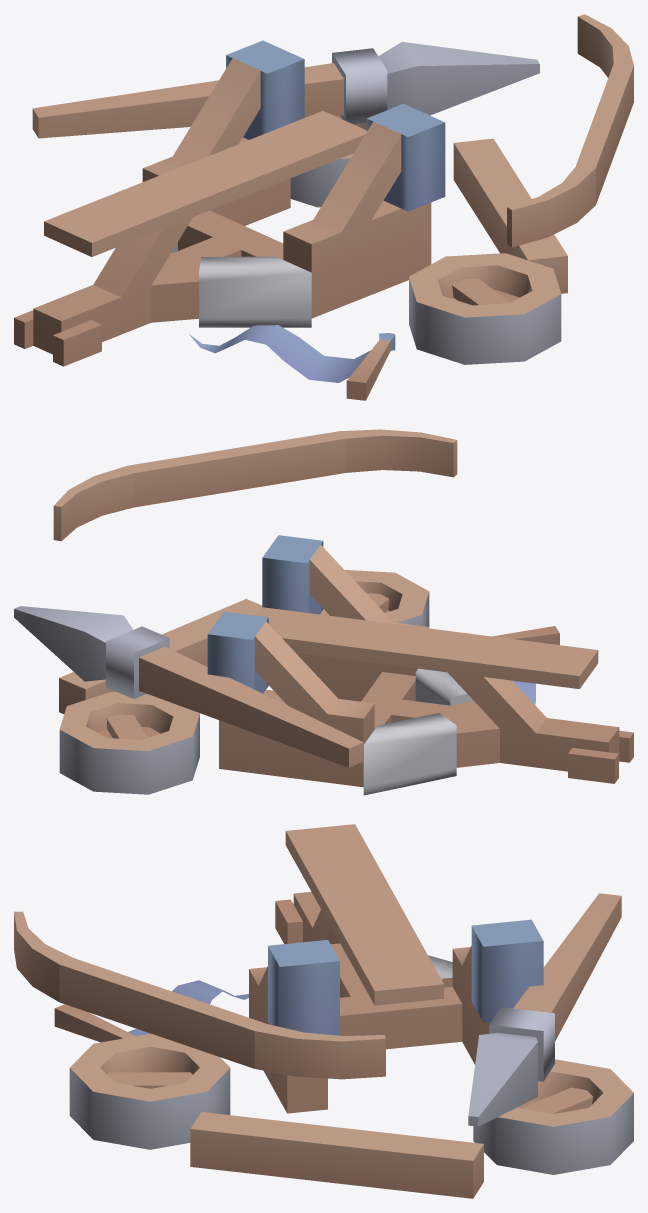
File: siege-ballista-demolished.glb
The picture shows the model from 3 angles, top to bottom: view 1: azimuth 30°, elevation 25°; view 2: azimuth 150°, elevation 25°; view 3: azimuth 270°, elevation 25°; orthographic projection. The views are drawn at different scales.
Parts seen in each view (by area): view 1: siege-ballista-demolished; view 2: siege-ballista-demolished; view 3: siege-ballista-demolished.
Boxes of the visible parts, bbox=[...] form: siege-ballista-demolished: bbox=[14, 14, 633, 400]; siege-ballista-demolished: bbox=[14, 429, 633, 795]; siege-ballista-demolished: bbox=[14, 824, 633, 1198].
Bounding box in the file's own units: 1.75 × 0.5097 × 1.55.
